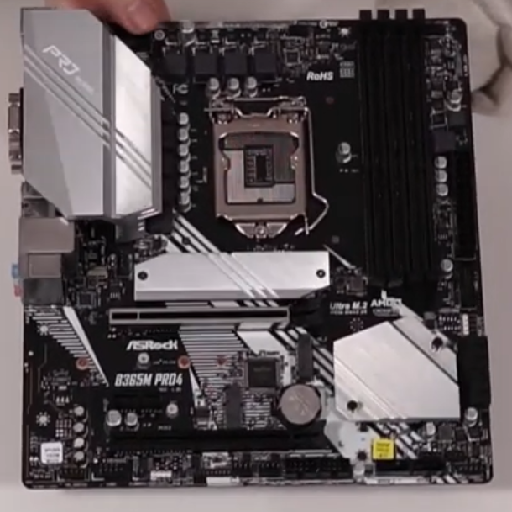CPU: (201, 86, 330, 245)
GPU: (91, 412, 336, 458), (100, 295, 319, 337)
MOTHERBOARD: (10, 8, 500, 495)
RAM: (343, 6, 454, 304)
SSD: (214, 380, 256, 438), (287, 334, 322, 388)
